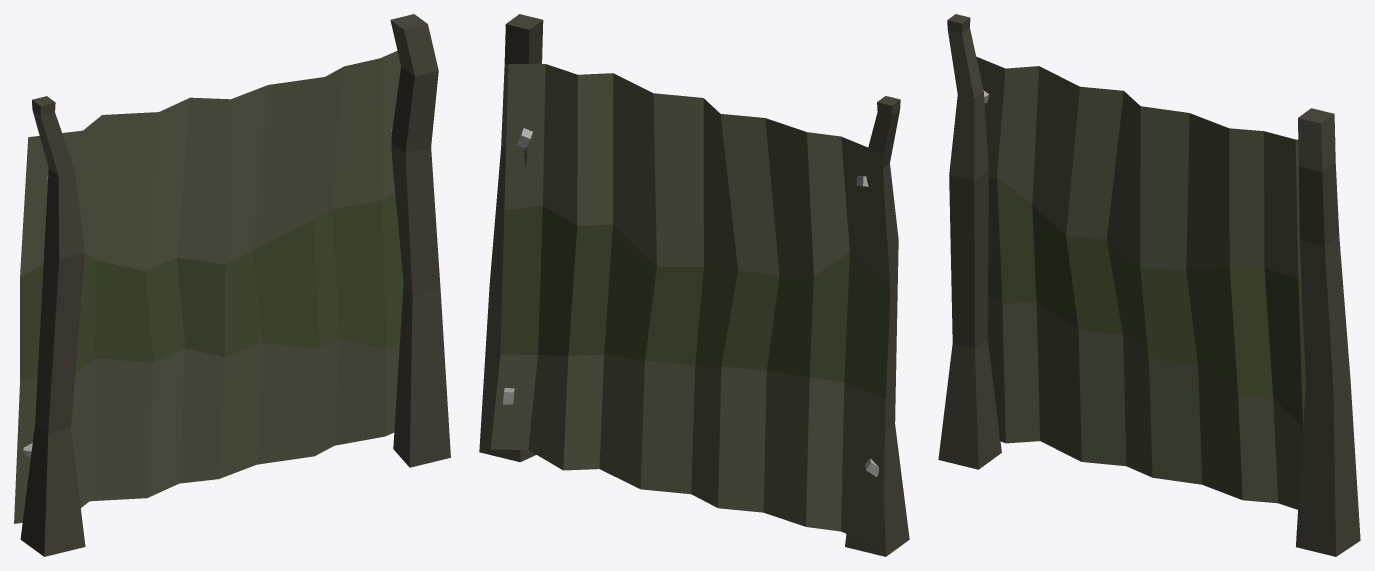
File: metal1.gltf
The picture shows the model from 3 angles, left to right: view 1: azimuth 30°, elevation 25°; view 2: azimuth 150°, elevation 25°; view 3: azimuth 330°, elevation 25°; orthographic projection. The views are drawn at different scales.
Visible parts, largest first — view 1: basic_cube.014; view 2: basic_cube.014; view 3: basic_cube.014.
Part boxes in pixels (x1,y1,x2,y2): basic_cube.014: (14, 14, 450, 556); basic_cube.014: (479, 14, 909, 556); basic_cube.014: (938, 14, 1360, 556).
Size of the model in its own units: 1.91 by 1.97 by 0.2508.
1 material, 1 textured.
